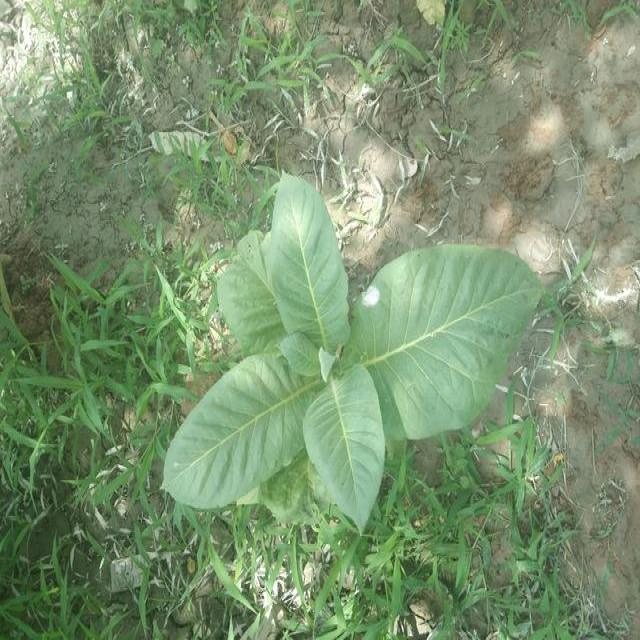crop: (163, 187, 538, 517)
